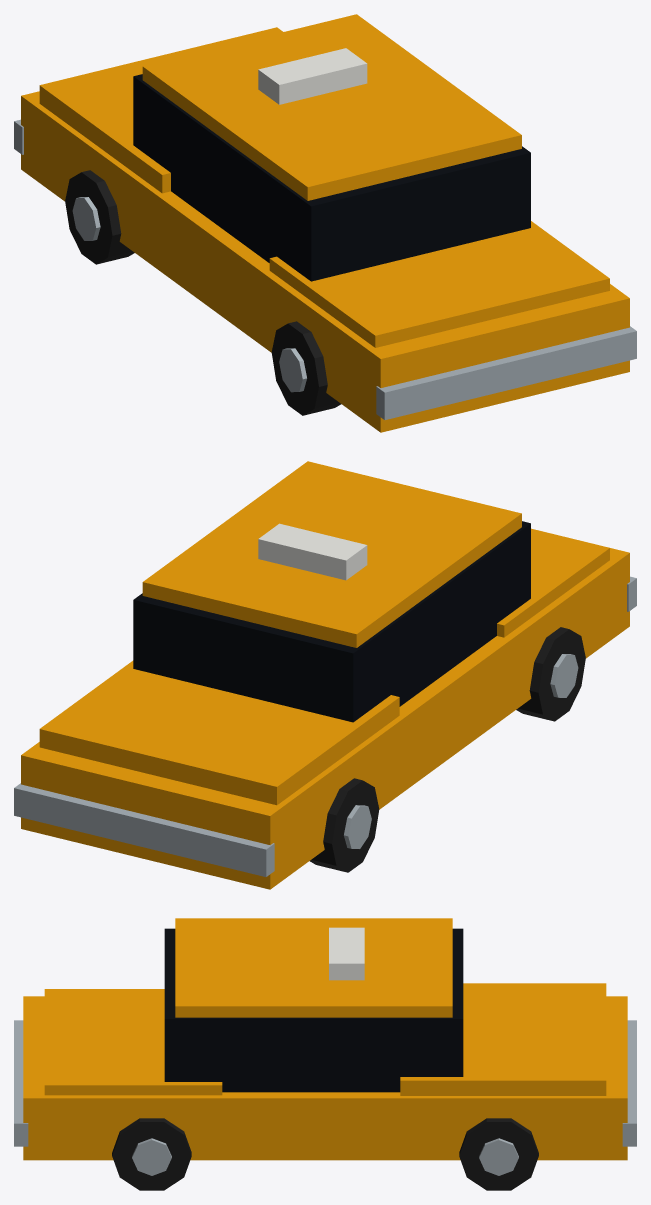
The model's file is yellow_taxi.fbx.
The picture shows the model from 3 angles, top to bottom: view 1: azimuth 30°, elevation 25°; view 2: azimuth 150°, elevation 25°; view 3: azimuth 270°, elevation 25°; orthographic projection. The views are drawn at different scales.
Visible parts, largest first — view 1: yellow_taxi; view 2: yellow_taxi; view 3: yellow_taxi.
Part boxes in pixels (x1,y1,x2,y2): yellow_taxi: (14,14,636,432); yellow_taxi: (14,461,636,889); yellow_taxi: (14,918,636,1190).
Size of the model in its own units: 1.88 by 1.48 by 4.38.
